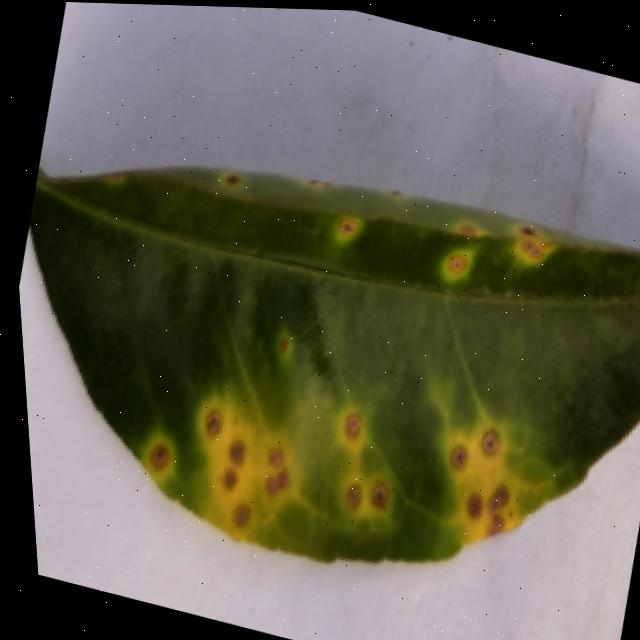canker: (31, 164, 640, 559), (99, 396, 524, 571), (201, 168, 640, 299), (302, 391, 398, 456), (336, 468, 396, 528), (258, 322, 312, 370)
